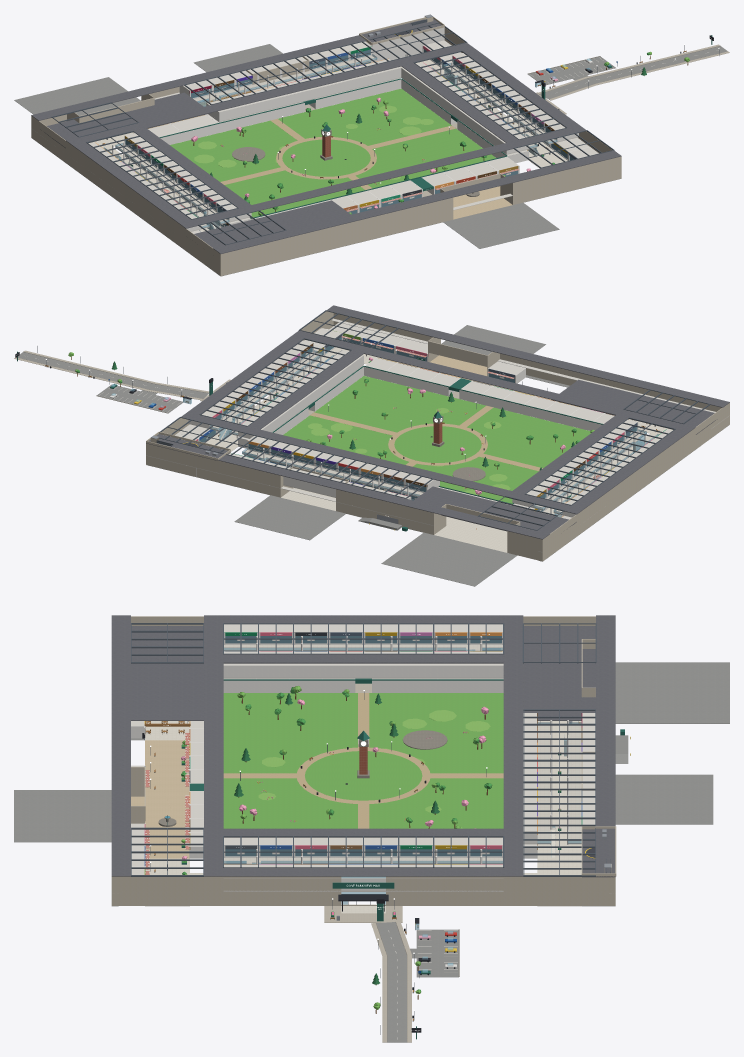
Rendered from mall.glb.
3 renders of one model, top to bottom at view 1: azimuth 30°, elevation 25°; view 2: azimuth 150°, elevation 25°; view 3: azimuth 270°, elevation 25°, orthographic. The views are drawn at different scales.
Parts seen in each view (by area): view 1: Mall_TW_MallRoof, Mall_TW_MallGrass, Mall_TW_MallOuter, Mall_TW_MallSlab, Mall_TW_MallWall, Mall_TW_MallService, Mall_TW_MallSteel, Mall_TW_MallGlass, Mall_TW_MallFloorUpper, Mall_TW_MallFloor, Mall_TW_MallPath, Mall_TW_MallVoid (+5 smaller); view 2: Mall_TW_MallRoof, Mall_TW_MallGrass, Mall_TW_MallOuter, Mall_TW_MallSlab, Mall_TW_MallService, Mall_TW_MallSteel, Mall_TW_MallWall, Mall_TW_MallFloor, Mall_TW_MallGlass, Mall_TW_MallFloorUpper, Mall_TW_MallVoid, Mall_TW_MallPath (+5 smaller); view 3: Mall_TW_MallRoof, Mall_TW_MallGrass, Mall_TW_MallService, Mall_TW_MallOuter, Mall_TW_MallSlab, Mall_TW_MallSteel, Mall_TW_MallWall, Mall_TW_MallFloorUpper, Mall_TW_MallGlass, Mall_TW_MallStreet, Mall_TW_MallFloor, Mall_TW_MallPath (+7 smaller).
Boxes of the visible parts, left/top/right/bottom form: Mall_TW_MallRoof: left=31, top=19, right=621, bottom=253; Mall_TW_MallGrass: left=170, top=88, right=496, bottom=217; Mall_TW_MallOuter: left=31, top=16, right=621, bottom=276; Mall_TW_MallSlab: left=31, top=40, right=598, bottom=233; Mall_TW_MallWall: left=112, top=27, right=592, bottom=233; Mall_TW_MallService: left=14, top=44, right=727, bottom=276; Mall_TW_MallSteel: left=51, top=19, right=719, bottom=245; Mall_TW_MallGlass: left=103, top=49, right=610, bottom=229; Mall_TW_MallFloorUpper: left=116, top=56, right=556, bottom=229; Mall_TW_MallFloor: left=44, top=59, right=567, bottom=266; Mall_TW_MallPath: left=220, top=119, right=455, bottom=189; Mall_TW_MallVoid: left=126, top=49, right=574, bottom=226; Mall_TW_MallRoof: left=146, top=305, right=729, bottom=539; Mall_TW_MallGrass: left=283, top=376, right=590, bottom=503; Mall_TW_MallOuter: left=146, top=311, right=729, bottom=561; Mall_TW_MallSlab: left=146, top=318, right=729, bottom=552; Mall_TW_MallService: left=18, top=325, right=728, bottom=586; Mall_TW_MallSteel: left=37, top=310, right=710, bottom=530; Mall_TW_MallWall: left=109, top=322, right=645, bottom=516; Mall_TW_MallFloor: left=205, top=347, right=709, bottom=552; Mall_TW_MallGlass: left=111, top=337, right=658, bottom=517; Mall_TW_MallFloorUpper: left=211, top=352, right=644, bottom=517; Mall_TW_MallVoid: left=200, top=337, right=636, bottom=510; Mall_TW_MallPath: left=310, top=405, right=542, bottom=471; Mall_TW_MallRoof: left=111, top=615, right=615, bottom=877; Mall_TW_MallGrass: left=223, top=693, right=503, bottom=828; Mall_TW_MallService: left=14, top=662, right=729, bottom=1042; Mall_TW_MallOuter: left=111, top=616, right=616, bottom=905; Mall_TW_MallSlab: left=131, top=624, right=611, bottom=893; Mall_TW_MallSteel: left=131, top=623, right=610, bottom=1034; Mall_TW_MallWall: left=131, top=632, right=568, bottom=967; Mall_TW_MallFloorUpper: left=224, top=644, right=581, bottom=863; Mall_TW_MallGlass: left=224, top=636, right=581, bottom=972; Mall_TW_MallStreet: left=131, top=740, right=189, bottom=858; Mall_TW_MallFloor: left=145, top=721, right=581, bottom=913; Mall_TW_MallPath: left=223, top=693, right=503, bottom=828.
Bounding box in the file's own units: 335 × 17.92 × 256.
Materials: 78 (74 with a texture image).
